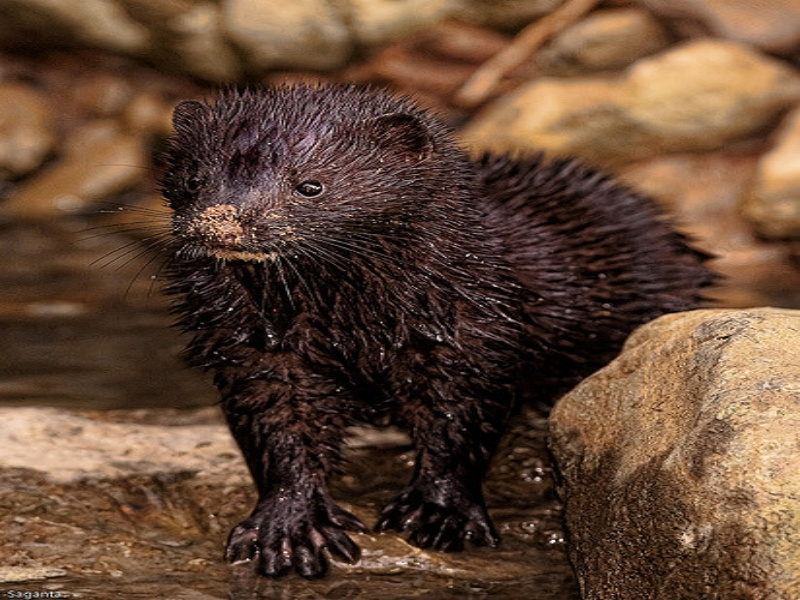minkish: (155, 91, 714, 577)
